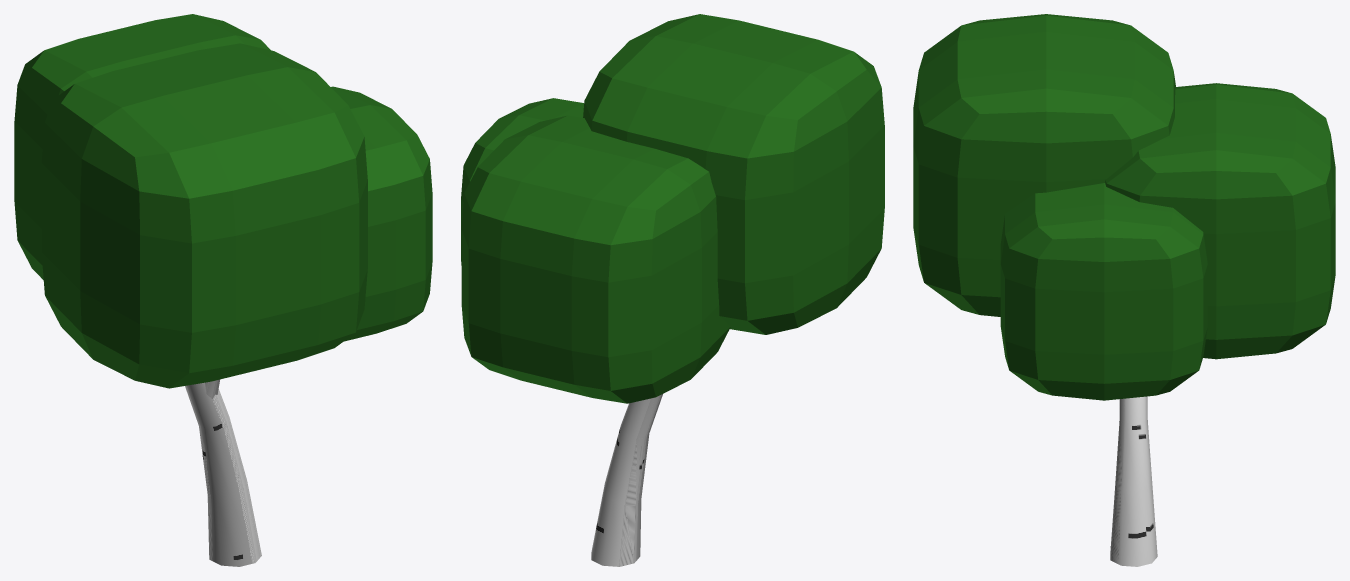
Rendered from Abedul.fbx.
The picture shows the model from 3 angles, left to right: view 1: azimuth 30°, elevation 25°; view 2: azimuth 150°, elevation 25°; view 3: azimuth 270°, elevation 25°; orthographic projection. The views are drawn at different scales.
Parts seen in each view (by area): view 1: Abedul; view 2: Abedul; view 3: Abedul.
Part boxes in pixels (x1,y1,x2,y2): Abedul: (14,14,432,566); Abedul: (461,14,884,566); Abedul: (913,14,1335,566).
Size of the model in its own units: 2019 by 2317 by 2854.
Materials: 2 (1 with a texture image).
